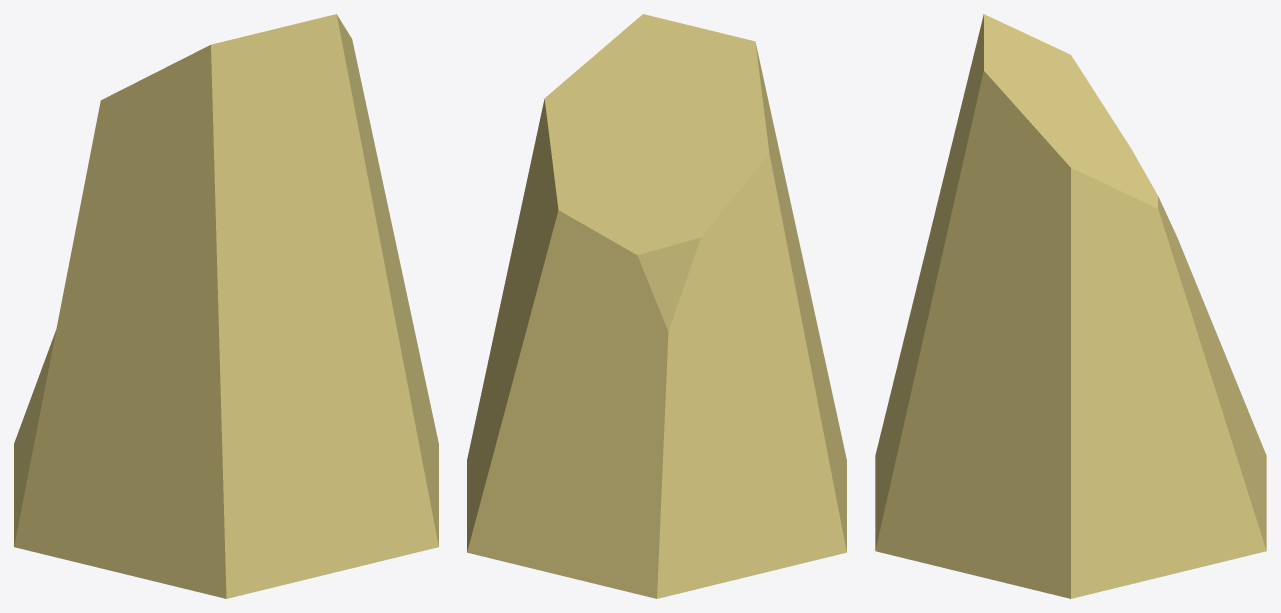
Rendered from rockTile2.fbx.
The picture shows the model from 3 angles, left to right: view 1: azimuth 30°, elevation 25°; view 2: azimuth 150°, elevation 25°; view 3: azimuth 270°, elevation 25°; orthographic projection. The views are drawn at different scales.
Visible parts, largest first — view 1: Cylinder.878; view 2: Cylinder.878; view 3: Cylinder.878.
Boxes of the visible parts, x1,y1,x2,y2 form: Cylinder.878: (14, 14, 438, 598); Cylinder.878: (467, 14, 846, 598); Cylinder.878: (875, 14, 1266, 598).
Size of the model in its own units: 200 by 225 by 173.
